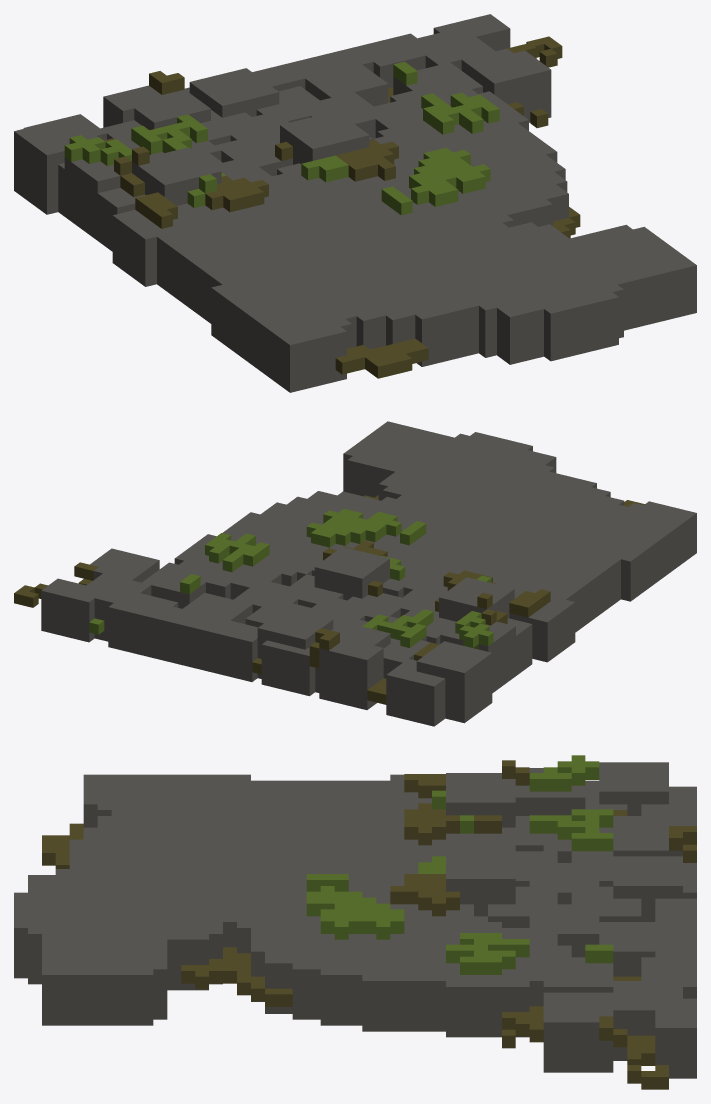
The model's file is Water_floating_rocks_001.glb.
3 renders of one model, top to bottom at view 1: azimuth 30°, elevation 25°; view 2: azimuth 150°, elevation 25°; view 3: azimuth 270°, elevation 25°, orthographic. The views are drawn at different scales.
Parts seen in each view (by area): view 1: Water_floating_rocks.001; view 2: Water_floating_rocks.001; view 3: Water_floating_rocks.001.
Part boxes in pixels (x1,y1,x2,y2): Water_floating_rocks.001: (14, 14, 696, 392); Water_floating_rocks.001: (14, 421, 696, 726); Water_floating_rocks.001: (14, 755, 696, 1089).
Size of the model in its own units: 4.42 by 0.658 by 4.61.
Materials: 1 (1 with a texture image).
